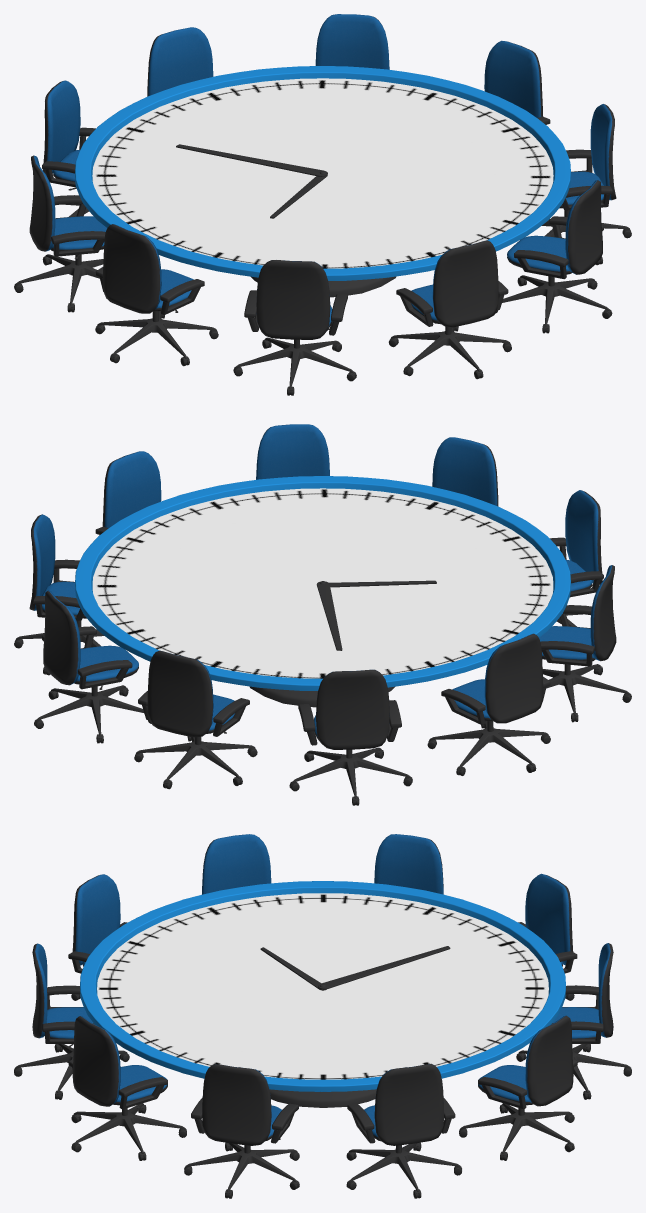
Rendered from Meeting.glb.
3 renders of one model, top to bottom at view 1: azimuth 30°, elevation 25°; view 2: azimuth 150°, elevation 25°; view 3: azimuth 270°, elevation 25°, orthographic. The views are drawn at different scales.
Visible parts, largest first — view 1: Table, Chairs; view 2: Table, Chairs; view 3: Table, Chairs.
Part boxes in pixels (box(x1,y1,x2,y2)): Table: box(75, 66, 570, 297); Chairs: box(14, 14, 631, 395); Table: box(75, 476, 570, 707); Chairs: box(14, 424, 631, 805); Table: box(80, 881, 565, 1107); Chairs: box(14, 834, 631, 1198).
Size of the model in its own units: 22.41 by 5.21 by 23.48.
Materials: 1 (1 with a texture image).
